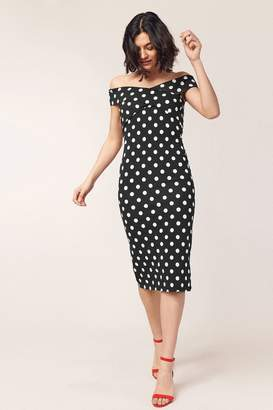C_dress: (90, 79, 219, 302)
